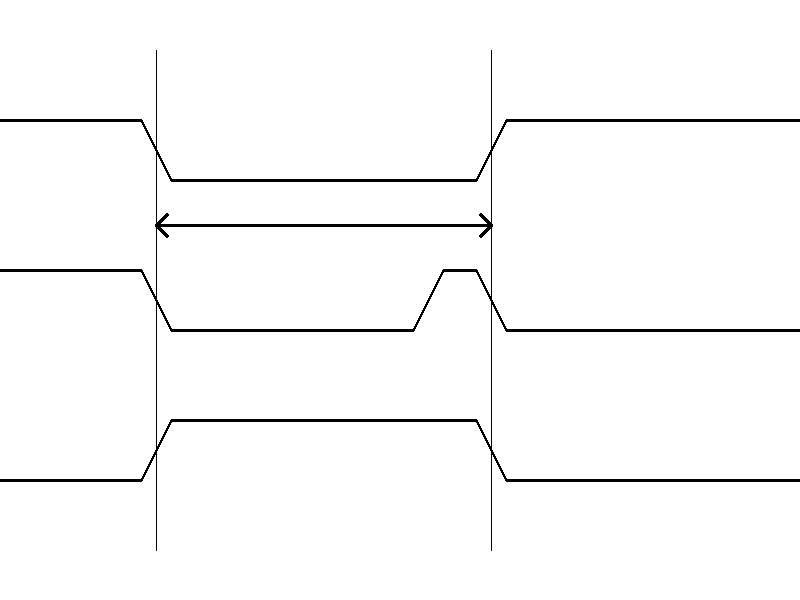double_arrow: (156, 210, 491, 240)
